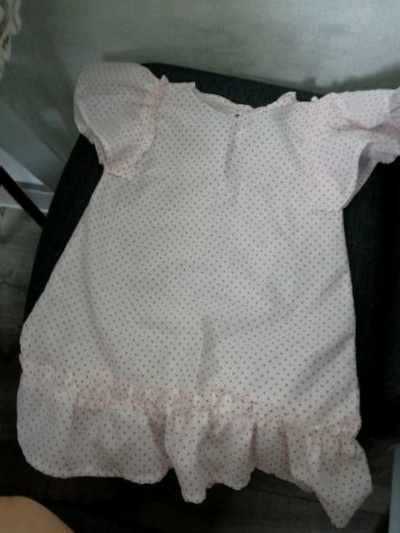Dress: (25, 22, 396, 533)
